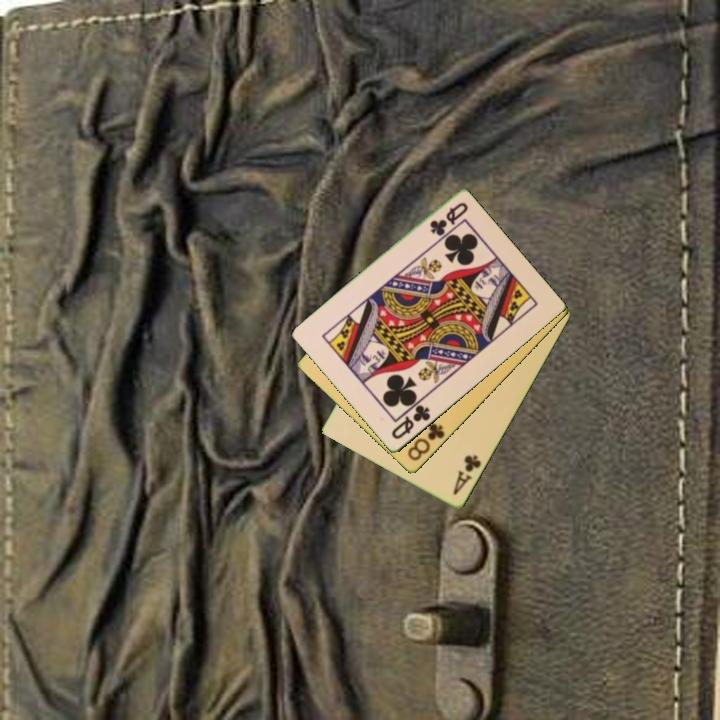8c: (404, 420, 447, 464)
Ac: (449, 451, 484, 499)
Qc: (388, 401, 433, 442), (426, 199, 471, 239)
